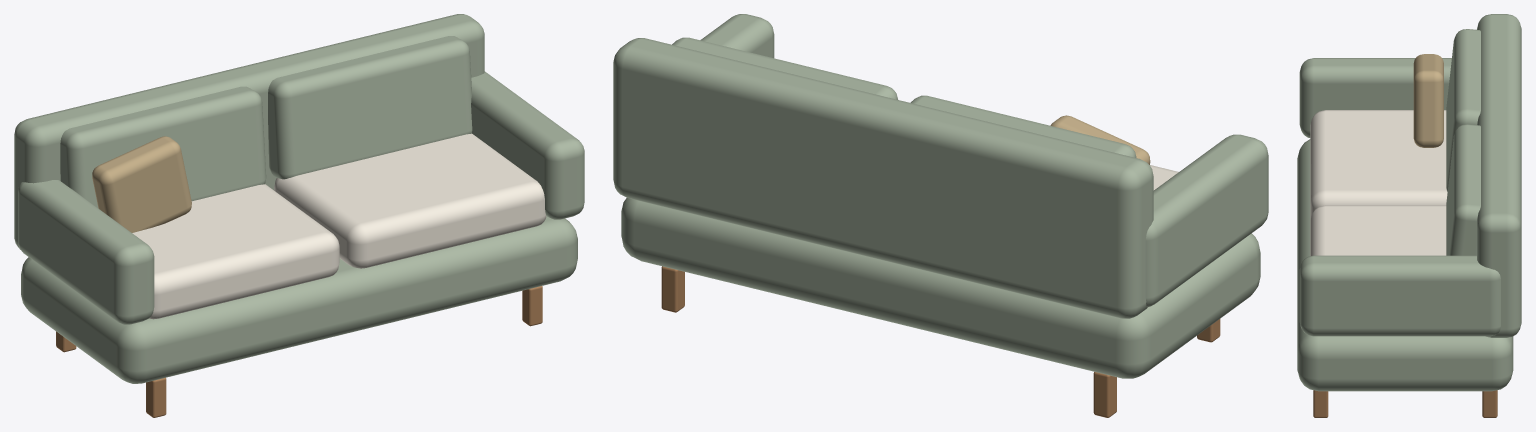
Rendered from sofa.glb.
The picture shows the model from 3 angles, left to right: view 1: azimuth 30°, elevation 25°; view 2: azimuth 150°, elevation 25°; view 3: azimuth 270°, elevation 25°; orthographic projection. The views are drawn at different scales.
Parts seen in each view (by area): view 1: 自制云杉沙发; view 2: 自制云杉沙发; view 3: 自制云杉沙发.
Part boxes in pixels (<box>): 自制云杉沙发: <box>14,14,584,417</box>; 自制云杉沙发: <box>613,14,1268,417</box>; 自制云杉沙发: <box>1297,14,1521,417</box>.
Bounding box in the file's own units: 2.17 × 1.01 × 0.955.
